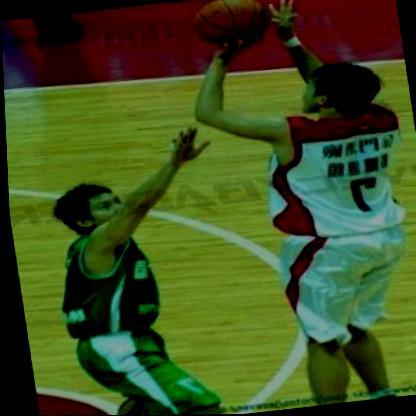basketball: (185, 0, 281, 57)
